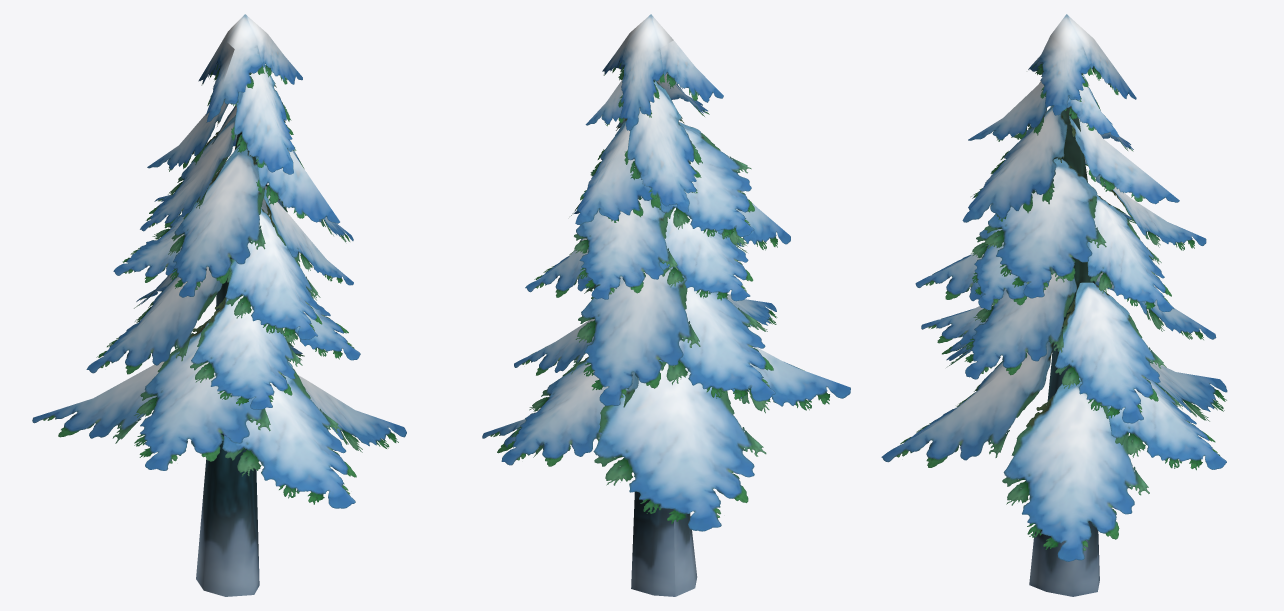
Rendered from songshu01.FBX.
3 renders of one model, left to right at view 1: azimuth 30°, elevation 25°; view 2: azimuth 150°, elevation 25°; view 3: azimuth 270°, elevation 25°, orthographic.
Visible parts, largest first — view 1: songshu01; view 2: songshu01; view 3: songshu01.
Boxes of the visible parts, x1,y1,x2,y2 form: songshu01: (32, 14, 406, 596); songshu01: (482, 14, 850, 596); songshu01: (881, 14, 1227, 596).
Bounding box in the file's own units: 110 × 172 × 105.
